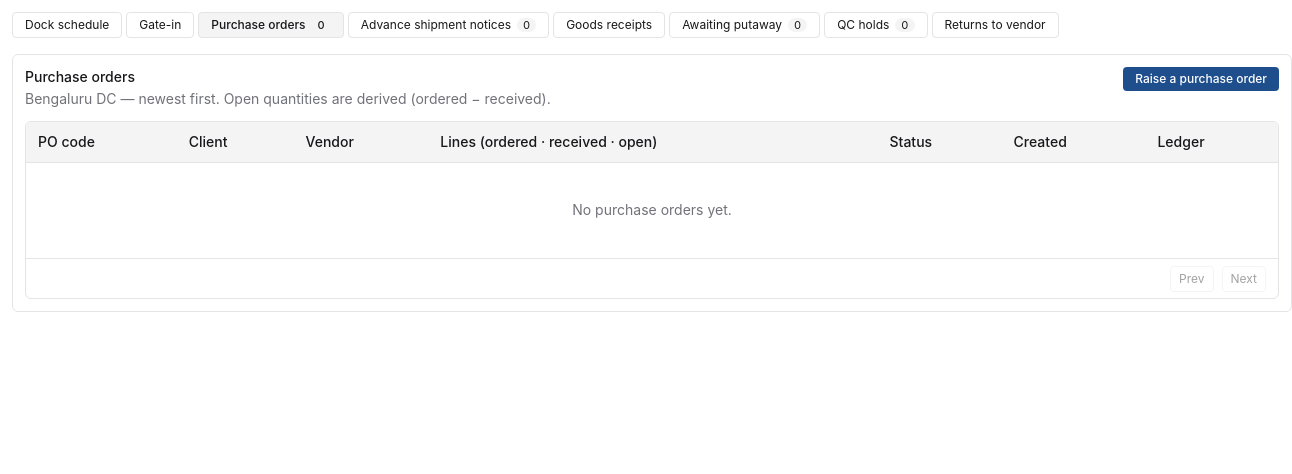
Scenario: PoCreateForm › "All clients" with several clients: "Pick the client first", no vendor and no lines, Raise disabled
Click the button "Raise a purchase order" at [1201, 79], box [1123,67,1279,91]
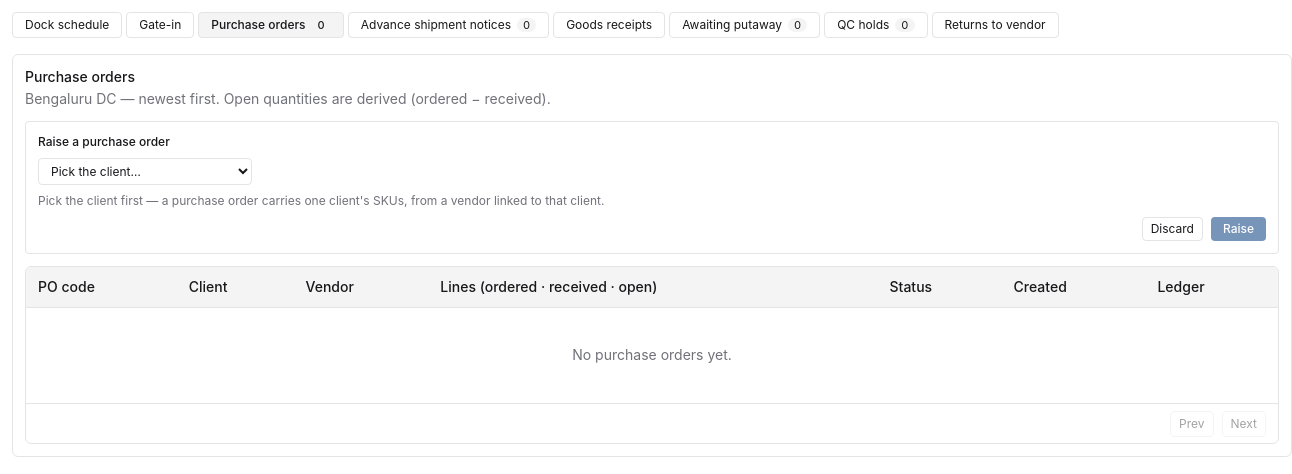
Expected: the form named "Raise a purchase order" is shown, [25,121,1279,254]
Expected: the form named "Raise a purchase order" shows "Pick the client first", [38,193,604,208]
Expected: the button "Raise" is disabled, [1211,217,1266,241]
